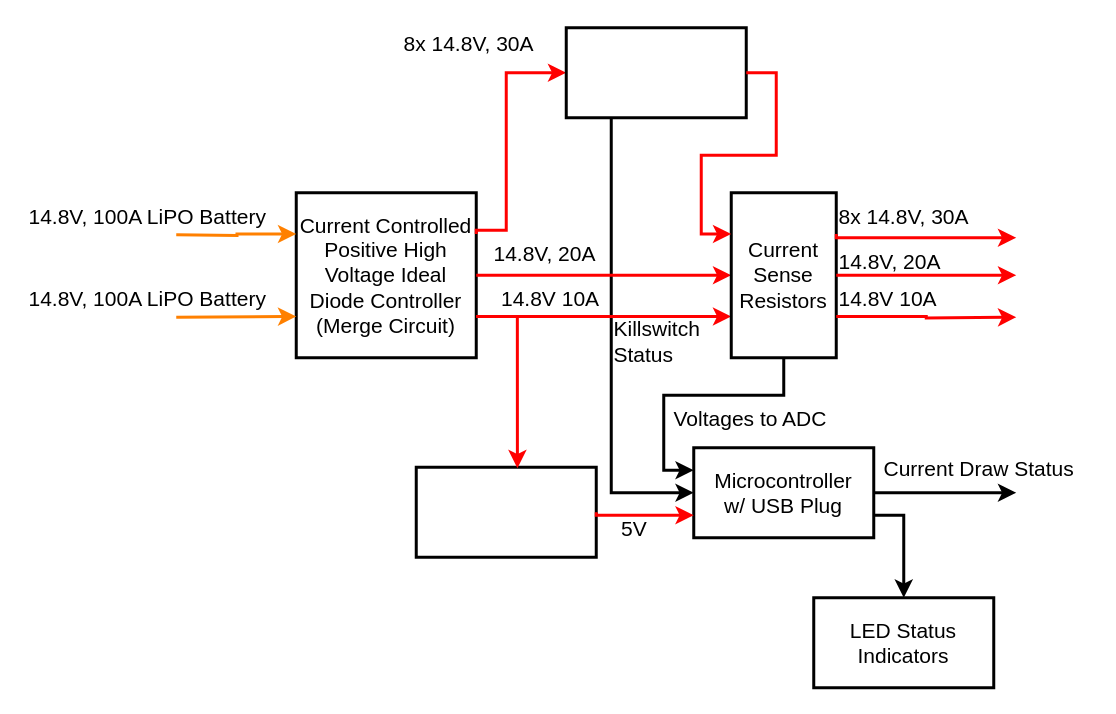
Some shapes in this 1116 by 714 pixel diagram are drawn without their labels. The shapes that lost their labels are listed below. From the top down, each one's centre as x and y in pixels, then its label:
At pixel 655 72: "Mechanical Kill switch".
At pixel 505 511: "5V Switching Regulator".
